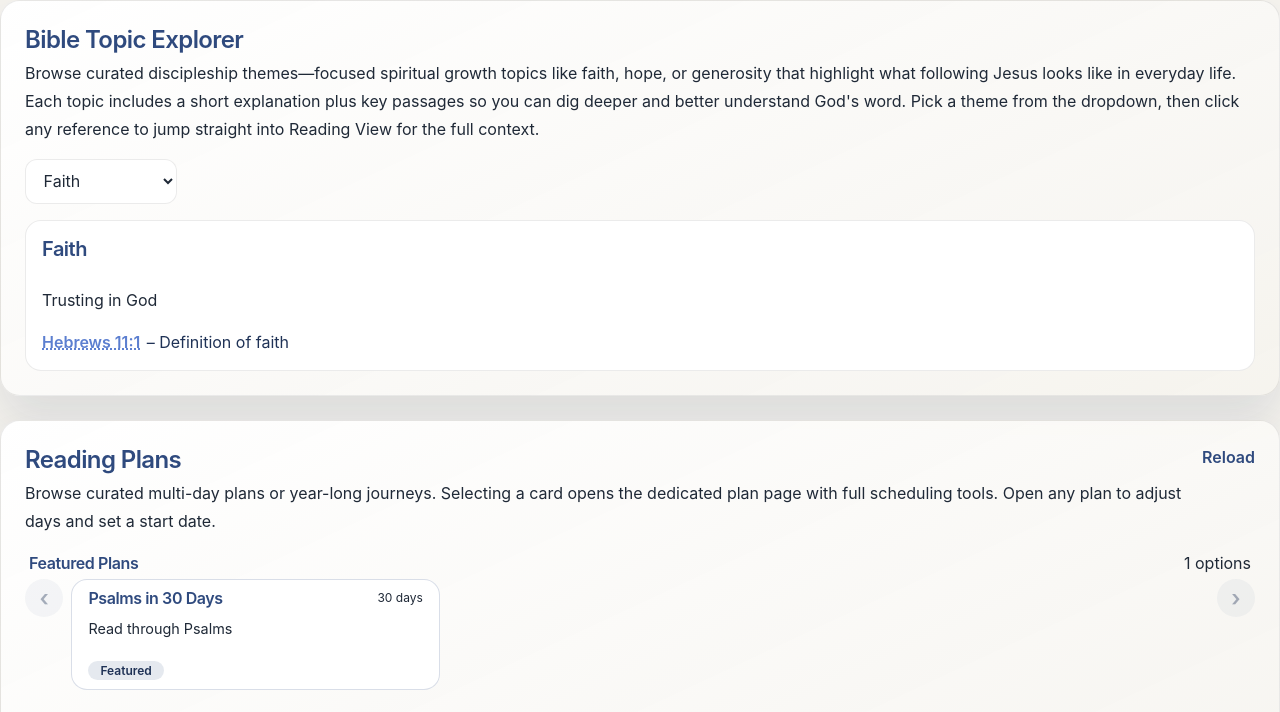
Test case: StudyResources › Topic Selection and Switching › switches displayed topic when a different topic is selected
# Select the second topic
Select "Hope" in the dropdown at (101,181), box [25, 159, 177, 204]
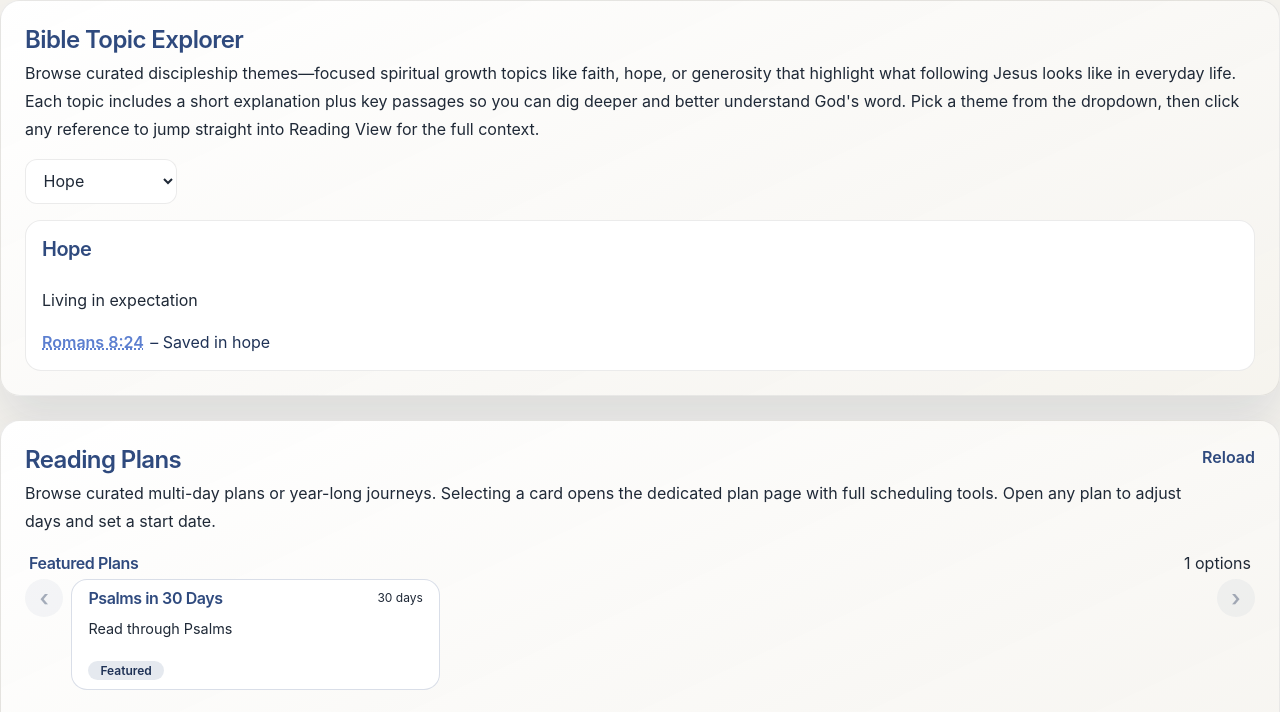
Expected: the text "Hope" is shown, [25, 63, 1239, 139]
Result: the text "Living in expectation" is shown at [42, 290, 198, 310]
